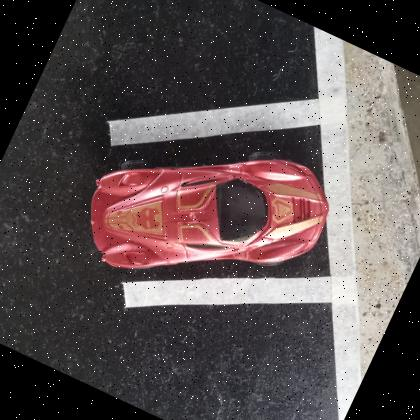Car: (90, 156, 330, 268)
